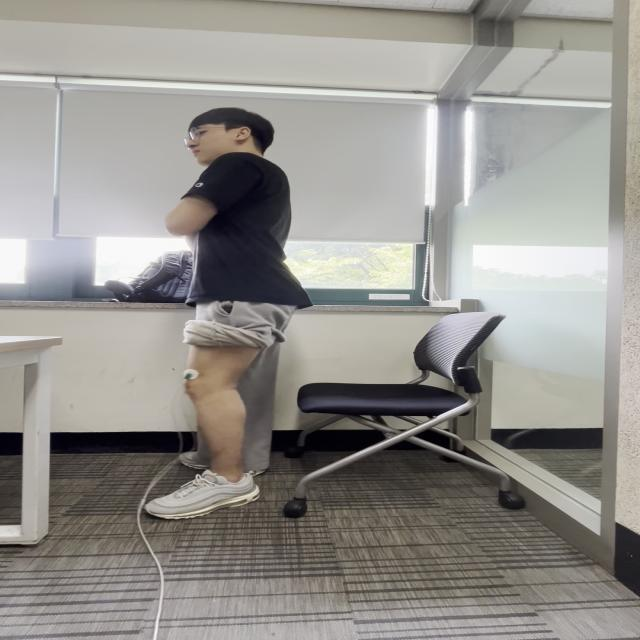stand: (174, 158, 304, 390), (160, 294, 293, 511)
